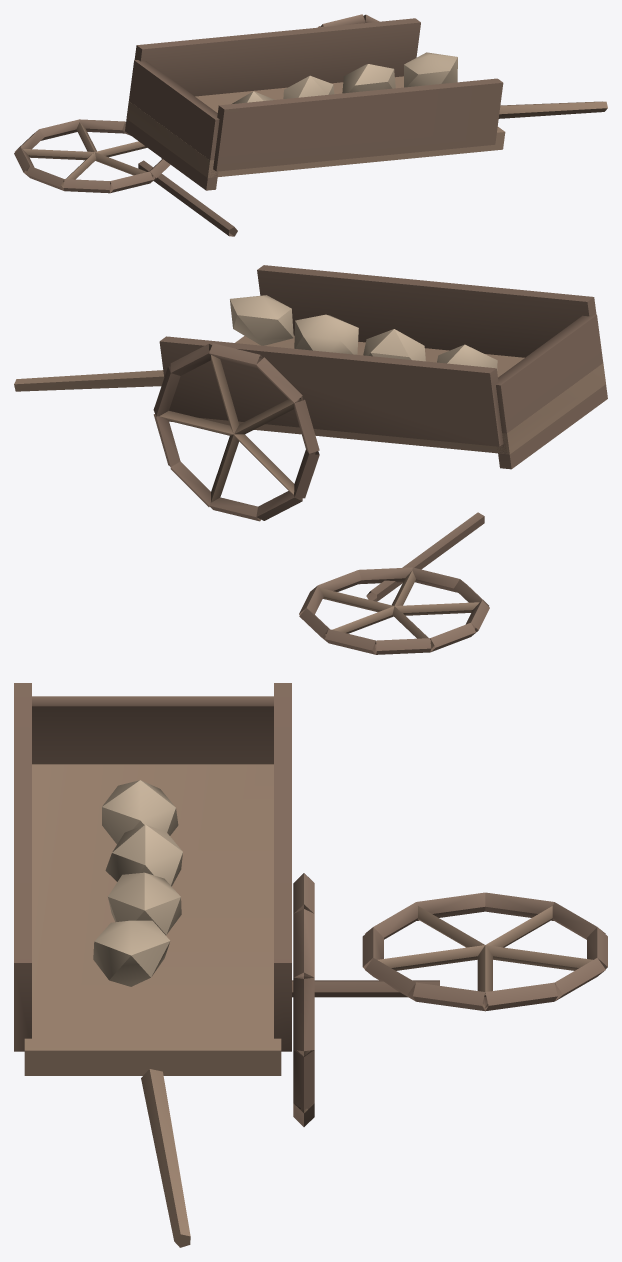
Rendered from cart_wreck.glb.
3 renders of one model, top to bottom at view 1: azimuth 30°, elevation 25°; view 2: azimuth 150°, elevation 25°; view 3: azimuth 270°, elevation 25°, orthographic. The views are drawn at different scales.
Visible parts, largest first — view 1: cart_wreck; view 2: cart_wreck; view 3: cart_wreck.
Boxes of the visible parts, x1,y1,x2,y2 form: cart_wreck: [14, 14, 607, 236]; cart_wreck: [14, 265, 607, 654]; cart_wreck: [14, 683, 607, 1247].
Size of the model in its own units: 5.86 by 1.99 by 3.93.
